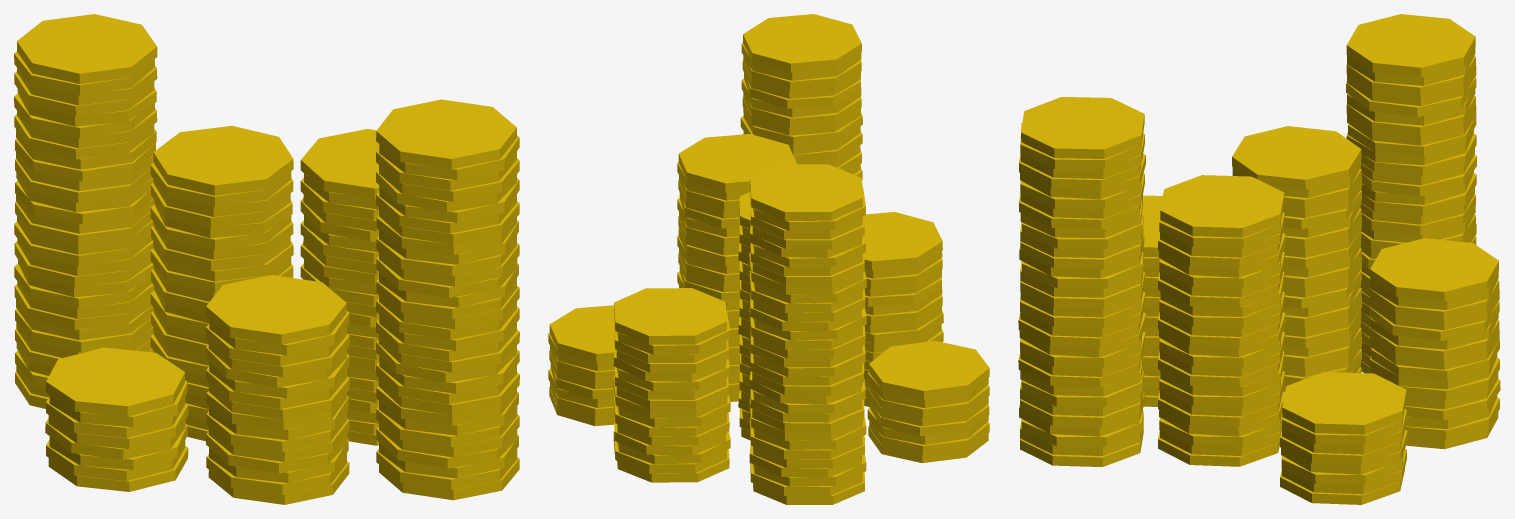
File: CoinStack3.fbx
3 views of the same model, side by side, from view 1: azimuth 30°, elevation 25°; view 2: azimuth 150°, elevation 25°; view 3: azimuth 270°, elevation 25° (orthographic). The views are drawn at different scales.
Parts seen in each view (by area): view 1: CoinStack3; view 2: CoinStack3; view 3: CoinStack3.
Boxes of the visible parts, x1,y1,x2,y2 form: CoinStack3: (14, 14, 519, 504); CoinStack3: (548, 14, 989, 504); CoinStack3: (1018, 14, 1500, 504).
Size of the model in its own units: 44.41 by 32.94 by 45.34.
